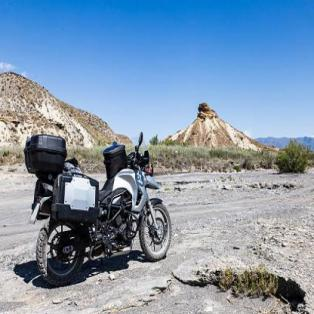Motocicleta: (20, 122, 178, 286)
